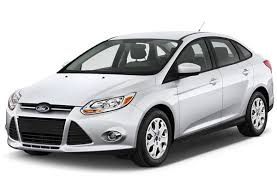car: (4, 30, 276, 167)
